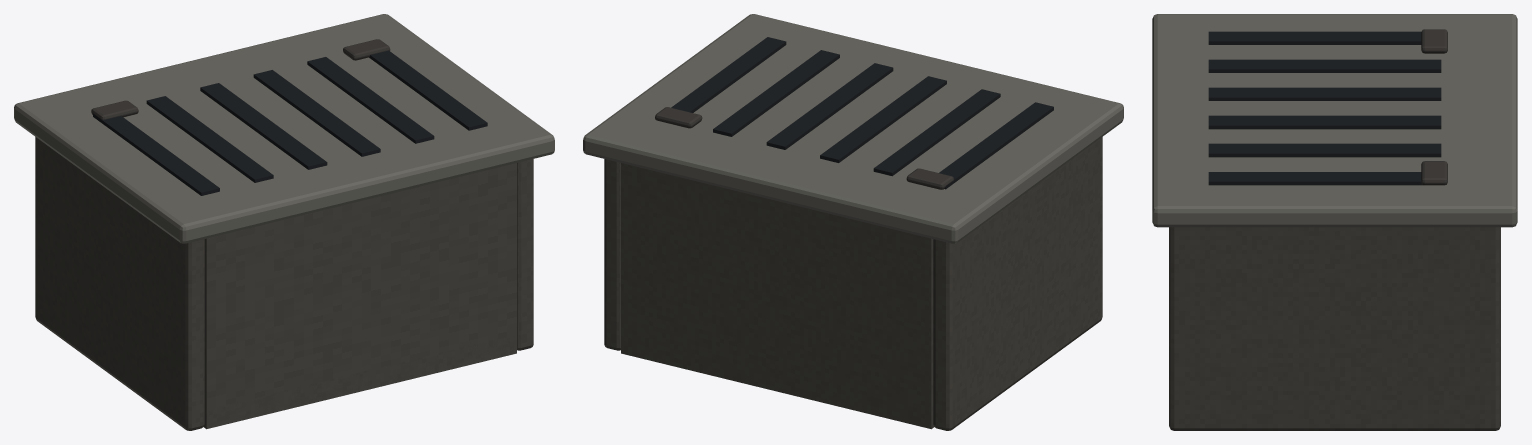
File: MS_SP_20_DrainageUtilityBox.glb
The picture shows the model from 3 angles, left to right: view 1: azimuth 30°, elevation 25°; view 2: azimuth 150°, elevation 25°; view 3: azimuth 270°, elevation 25°; orthographic projection. The views are drawn at different scales.
Visible parts, largest first — view 1: Back.004, MetalLid, DrainSlot, LiftHandle; view 2: Back.004, MetalLid, DrainSlot, LiftHandle; view 3: Back.004, MetalLid, DrainSlot, LiftHandle.
Boxes of the visible parts, <box> form: Back.004: <box>35,137,533,430</box>; MetalLid: <box>14,14,554,243</box>; DrainSlot: <box>93,50,487,195</box>; LiftHandle: <box>91,39,390,119</box>; Back.004: <box>604,137,1102,430</box>; MetalLid: <box>583,14,1123,243</box>; DrainSlot: <box>671,37,1053,189</box>; LiftHandle: <box>655,107,953,189</box>; Back.004: <box>1169,227,1500,430</box>; MetalLid: <box>1152,14,1517,227</box>; DrainSlot: <box>1208,31,1441,185</box>; LiftHandle: <box>1421,29,1447,185</box>.
Size of the model in its own units: 0.7 by 0.398 by 0.55.
4 materials, 1 textured.
